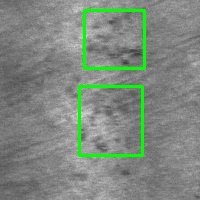rolled-in_scale: (79, 86, 142, 155), (84, 10, 144, 68)
